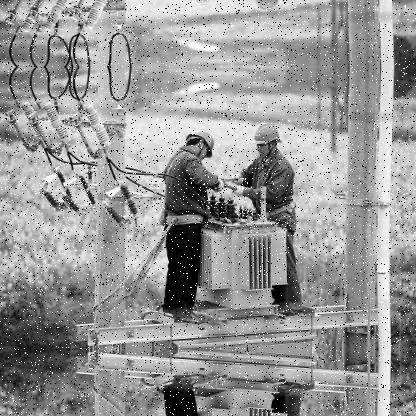Helmet: (186, 129, 216, 166), (256, 121, 284, 154)
